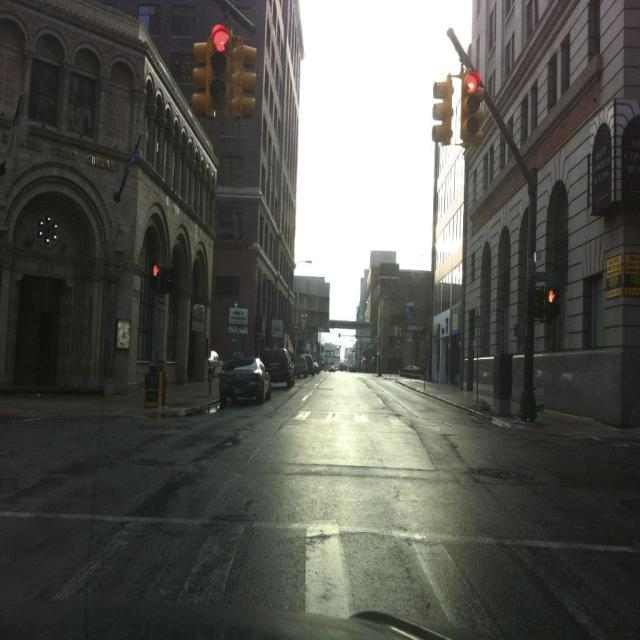off traffic light: (420, 75, 452, 144), (234, 35, 259, 118)
traffic light: (456, 60, 487, 148), (205, 23, 233, 112), (546, 288, 559, 322), (151, 261, 163, 292)
